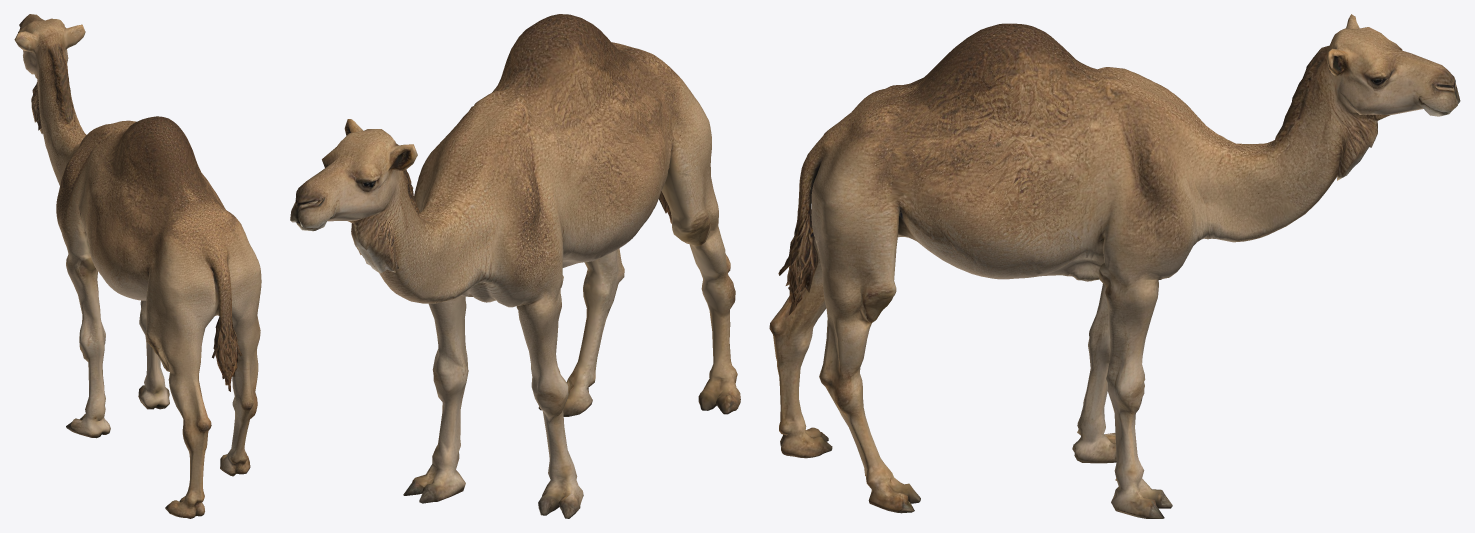
File: camel.glb
3 views of the same model, side by side, from view 1: azimuth 30°, elevation 25°; view 2: azimuth 150°, elevation 25°; view 3: azimuth 270°, elevation 25° (orthographic). The views are drawn at different scales.
Visible parts, largest first — view 1: tripo_node_0dcf755e-421c-439f-b011-3283ca693f2e; view 2: tripo_node_0dcf755e-421c-439f-b011-3283ca693f2e; view 3: tripo_node_0dcf755e-421c-439f-b011-3283ca693f2e.
Part boxes in pixels (box(x1,y1,x2,y2)): tripo_node_0dcf755e-421c-439f-b011-3283ca693f2e: box(14, 14, 261, 518); tripo_node_0dcf755e-421c-439f-b011-3283ca693f2e: box(290, 14, 740, 518); tripo_node_0dcf755e-421c-439f-b011-3283ca693f2e: box(769, 14, 1460, 518).
Bounding box in the file's own units: 0.2737 × 0.7149 × 0.9738.
1 material, 1 textured.
